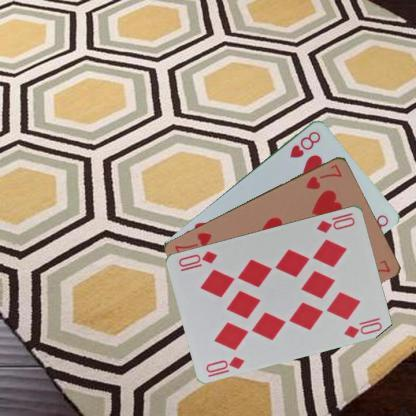10d: (314, 210, 356, 234), (204, 353, 246, 374)
7h: (302, 161, 344, 191)
8h: (287, 128, 322, 159)
